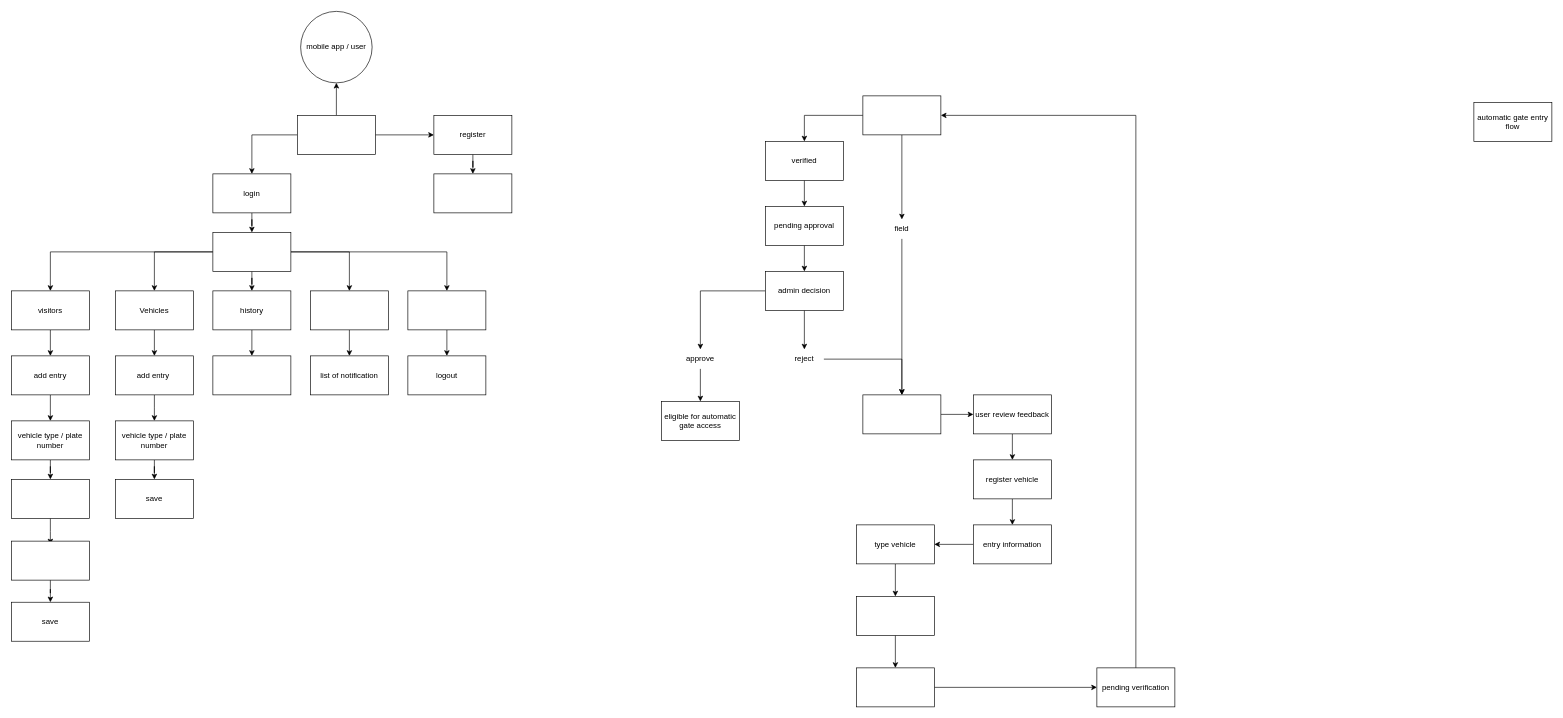
This 1563x718 diagram has some shape labels left out. Here are the shapes that lost their labels. From the top down, the centre of each, then its label:
[336,134]: start
[901,115]: security verification user
[472,193]: request to system admin
[251,251]: dashboard
[349,310]: notification
[446,310]: profile / setttings
[251,375]: list of history
[901,414]: rejected correction required
[50,498]: start / end
[50,560]: system admin approve / denied
[895,615]: upload vehicle photo
[895,687]: submit
